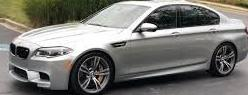Cars: (9, 1, 248, 94)
